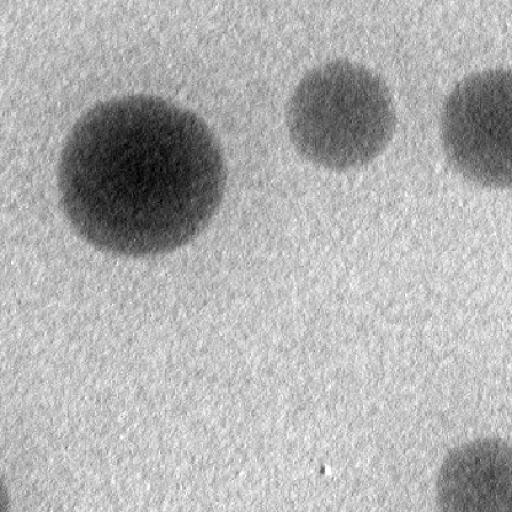Nanoparticles: (56, 94, 226, 254), (286, 60, 398, 172), (442, 67, 512, 191), (435, 437, 509, 511), (1, 476, 14, 512)
